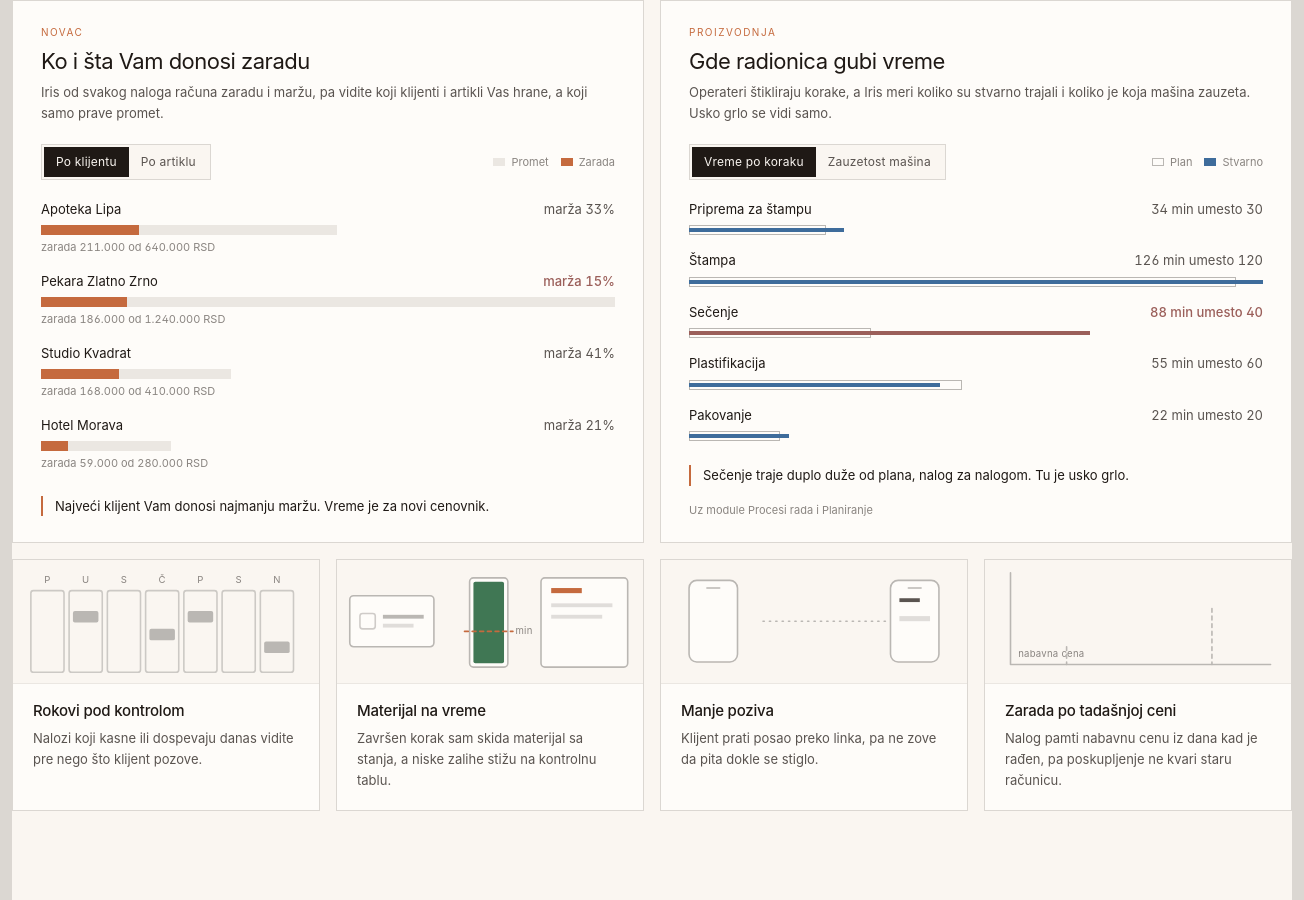
ValueShowcase › shows profit by client, then by item, with the margin that stands out
Expected: the text "Pekara Zlatno Zrno" is shown, [41,272,158,292]
Expected: the text "Najveći klijent Vam donosi najmanju maržu" is shown, [55,498,489,514]
Step 1. Click the button "Po artiklu" → [168, 162], box [129,147,208,177]
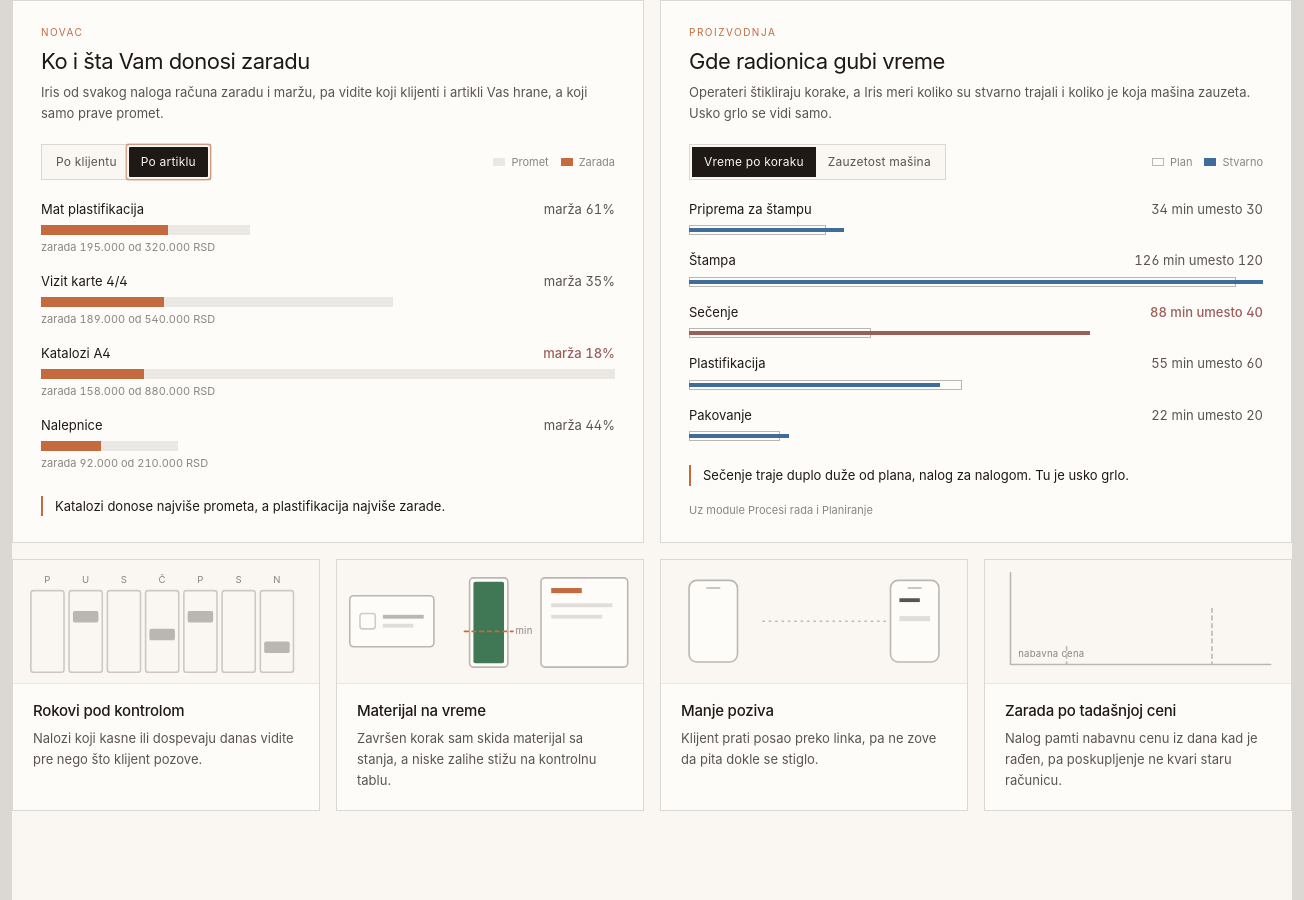
Result: the text "Katalozi A4" is shown at [41,344,111,364]
